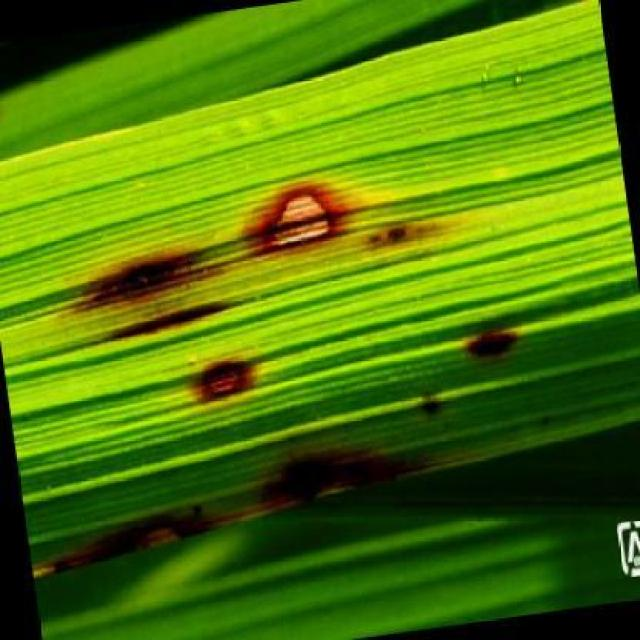Leaf_Blast: (52, 235, 212, 334), (237, 160, 351, 260), (244, 437, 370, 514), (175, 328, 260, 404), (452, 312, 530, 366)
